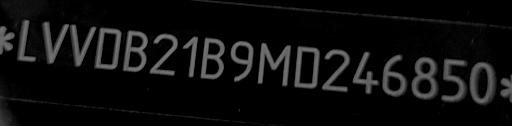letter: (255, 38, 291, 88), (321, 45, 353, 94), (467, 56, 499, 105), (146, 29, 178, 78), (291, 41, 321, 91), (410, 51, 440, 100), (438, 53, 468, 102), (198, 32, 226, 84), (380, 52, 410, 100), (94, 25, 122, 73), (121, 26, 149, 74), (352, 48, 380, 95), (228, 36, 254, 86), (39, 19, 67, 64), (68, 20, 94, 66), (15, 18, 37, 63), (178, 31, 198, 80)
